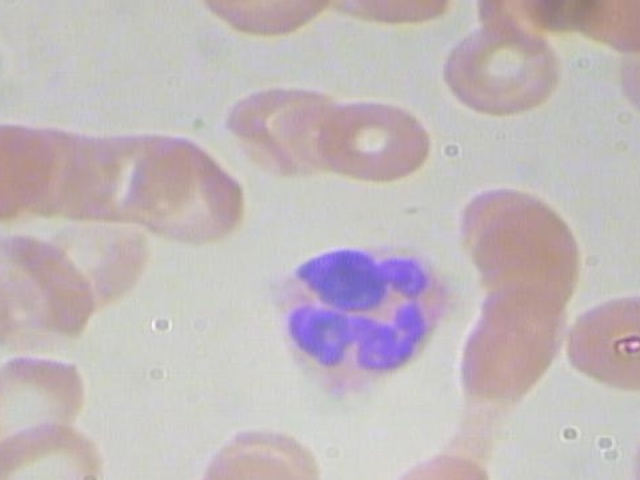RBC: (133, 131, 254, 255), (435, 19, 574, 126), (223, 76, 346, 183), (469, 198, 583, 313), (453, 287, 567, 401), (0, 230, 101, 355), (320, 93, 433, 189), (560, 287, 640, 398), (0, 409, 109, 480), (0, 118, 65, 225), (188, 441, 327, 480), (375, 449, 510, 480), (612, 31, 640, 123)
WBC: (253, 235, 463, 401)
